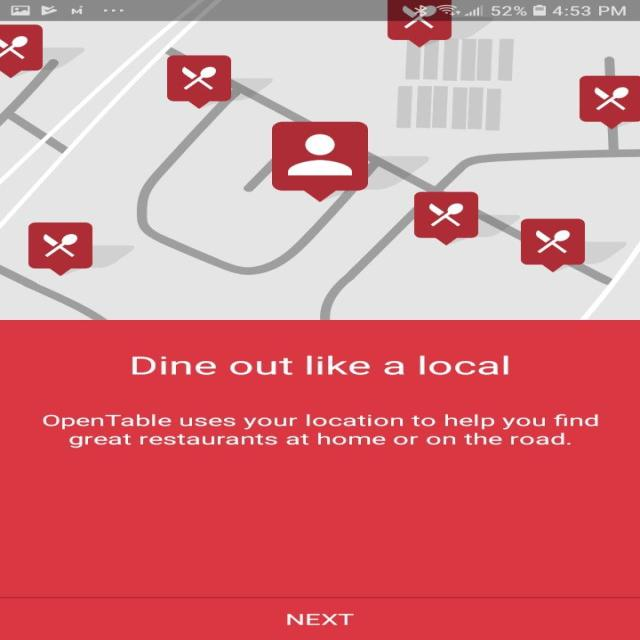Image: (0, 21, 639, 319)
Text: (41, 413, 598, 448), (132, 355, 508, 376)
TextButton: (0, 596, 639, 640)
